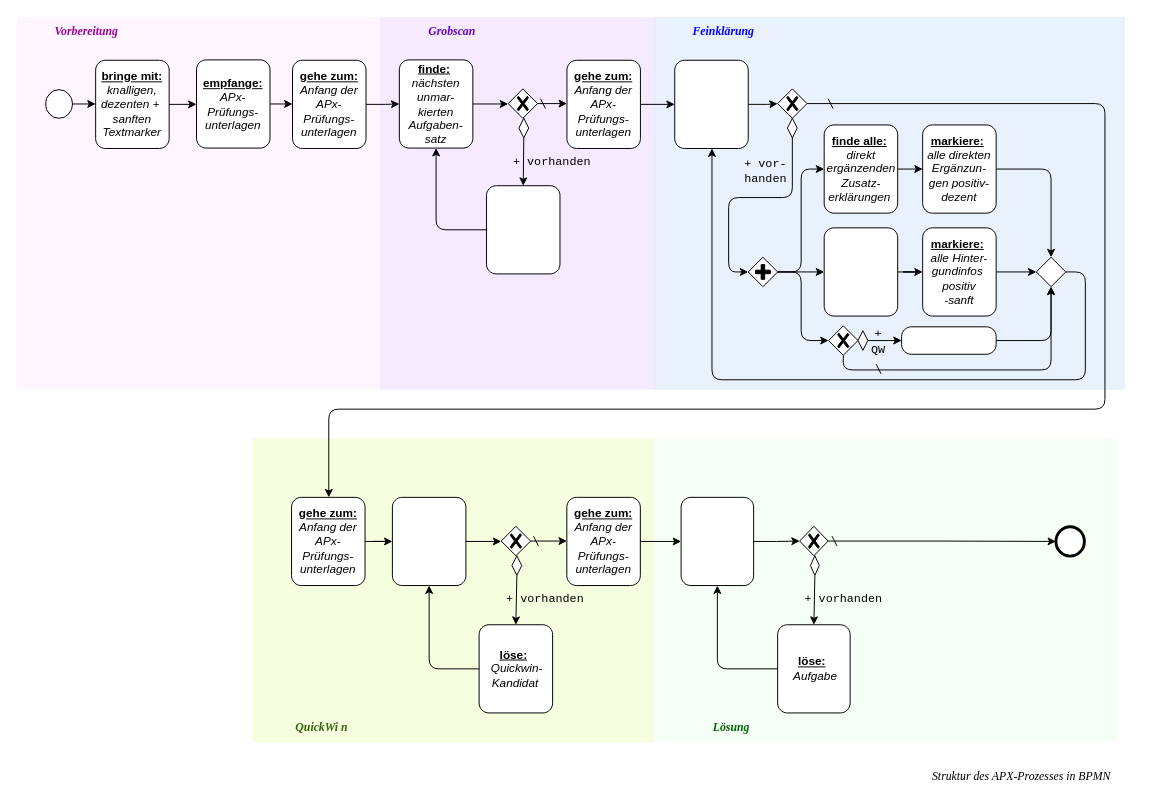
Image size: 1151x808. Some labels were removed from this diagram. The centre of each missing label's shape, as x and y in pixels:
finde alle: dazu not-wendingen Hinter-grundinfos: the point at 860,271
finde: nächste ungelöste Aufgabe: the point at 717,541
finde: nächsten mar kierten Aufgaben-satz: the point at 711,103
finde: nächsten Quickwin-Kandidat: the point at 428,541
markiere: als Quickwin-Kandidat: the point at 948,340
markiere: diesen un-markierten Aufgaben-satz knallig: the point at 522,229
